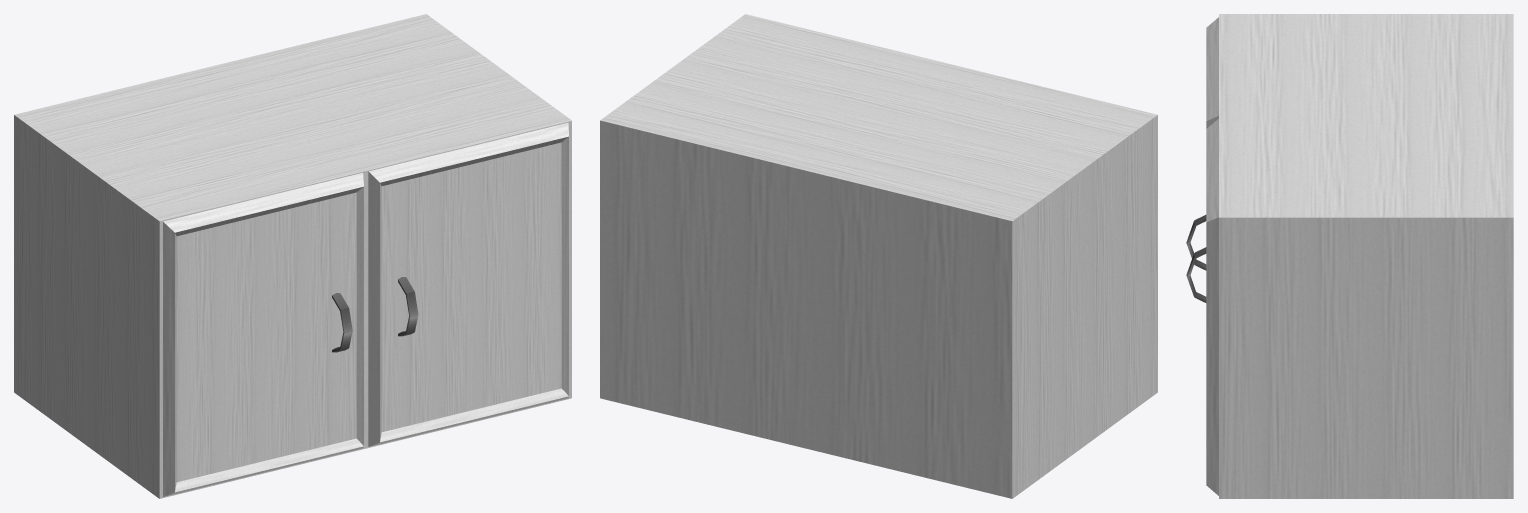
File: Open_Cabinet_A.FBX
3 views of the same model, side by side, from view 1: azimuth 30°, elevation 25°; view 2: azimuth 150°, elevation 25°; view 3: azimuth 270°, elevation 25° (orthographic).
Parts seen in each view (by area): view 1: Cabinet_Open_A, Door, Door001; view 2: Cabinet_Open_A; view 3: Cabinet_Open_A, Door, Door001.
Boxes of the visible parts, x1,y1,x2,y2 form: Cabinet_Open_A: [14, 14, 571, 498]; Door: [368, 123, 568, 446]; Door001: [163, 173, 363, 496]; Cabinet_Open_A: [600, 14, 1157, 498]; Cabinet_Open_A: [1219, 14, 1513, 498]; Door: [1186, 119, 1218, 495]; Door001: [1186, 17, 1218, 270].
Size of the model in its own units: 127 by 81.56 by 86.01.
